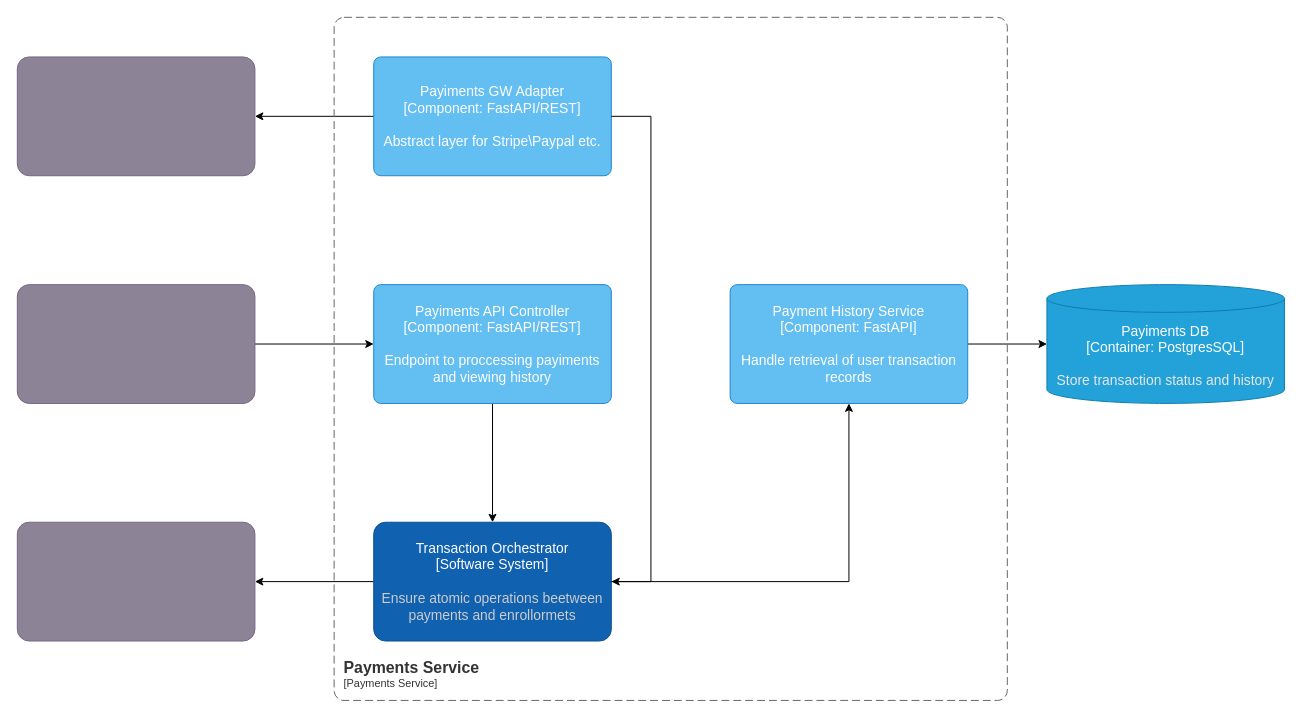
The diagram is 1302 pixels wide and 718 high, and some of its shapes have lost their labels. The shapes that lost their labels are listed below. From the top down, each one's centre as x and y in pixels, then its label:
At point (135, 116): "Payment Gateway [Software System] Stripe\Paypal API".
At point (135, 343): "User microservice [Software System] Internal API".
At point (135, 581): "Progress Service [Software System] Internal API".
